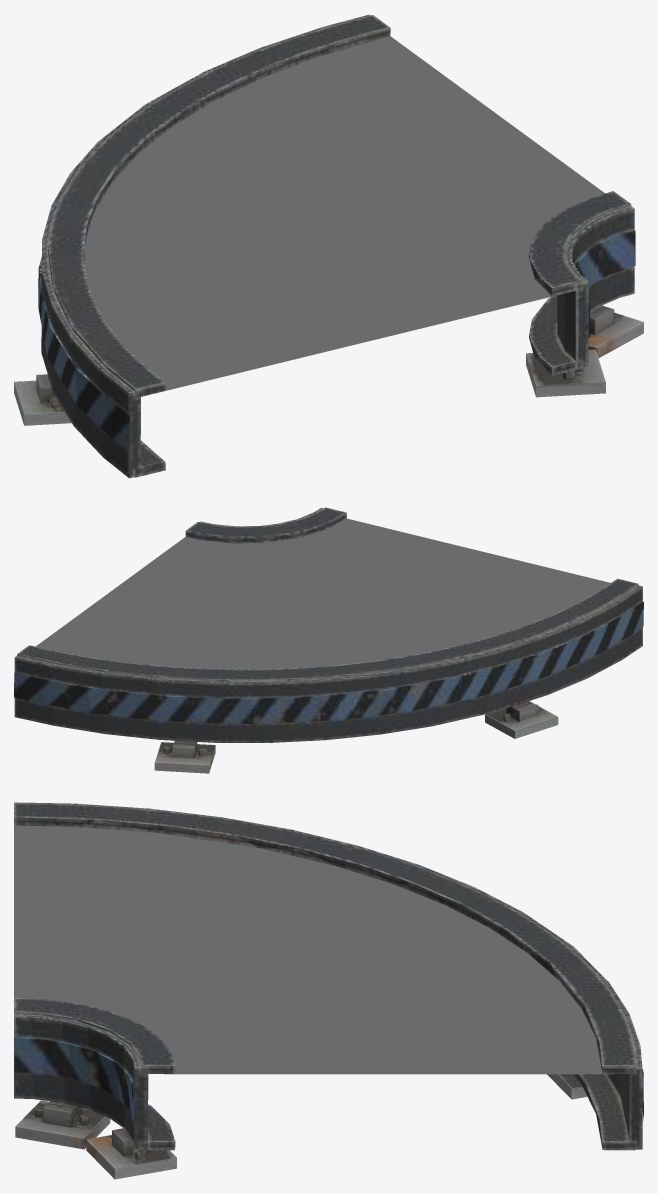
Rendered from esteira_curva_dir_expressa.glb.
3 views of the same model, one above another, from view 1: azimuth 30°, elevation 25°; view 2: azimuth 150°, elevation 25°; view 3: azimuth 270°, elevation 25° (orthographic). The views are drawn at different scales.
Parts seen in each view (by area): view 1: esteira_curva_dir_expressa_corpo; view 2: esteira_curva_dir_expressa_corpo; view 3: esteira_curva_dir_expressa_corpo.
Boxes of the visible parts, box(x1,y1,x2,y2) form: esteira_curva_dir_expressa_corpo: box(14, 14, 643, 478); esteira_curva_dir_expressa_corpo: box(14, 507, 643, 773); esteira_curva_dir_expressa_corpo: box(14, 802, 643, 1179).
Bounding box in the file's own units: 0.841 × 0.168 × 0.841.
2 materials, 1 textured.
